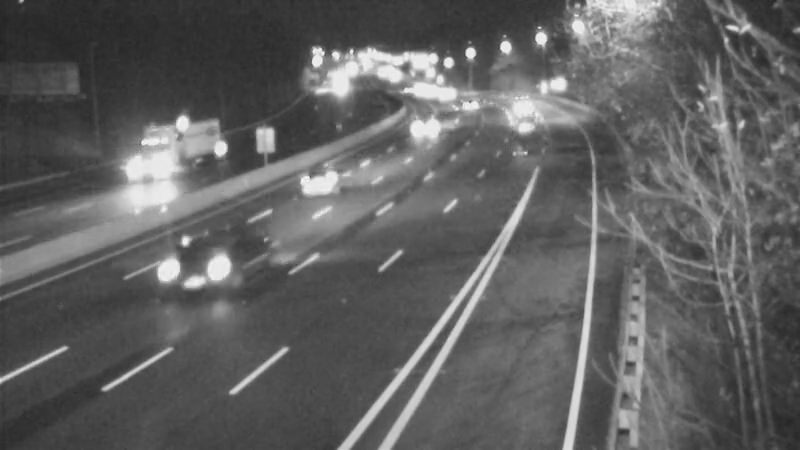vehicle: (282, 147, 362, 227), (162, 230, 242, 310), (124, 127, 204, 207), (418, 69, 468, 119), (444, 85, 494, 135), (499, 94, 549, 144), (395, 102, 445, 152)
